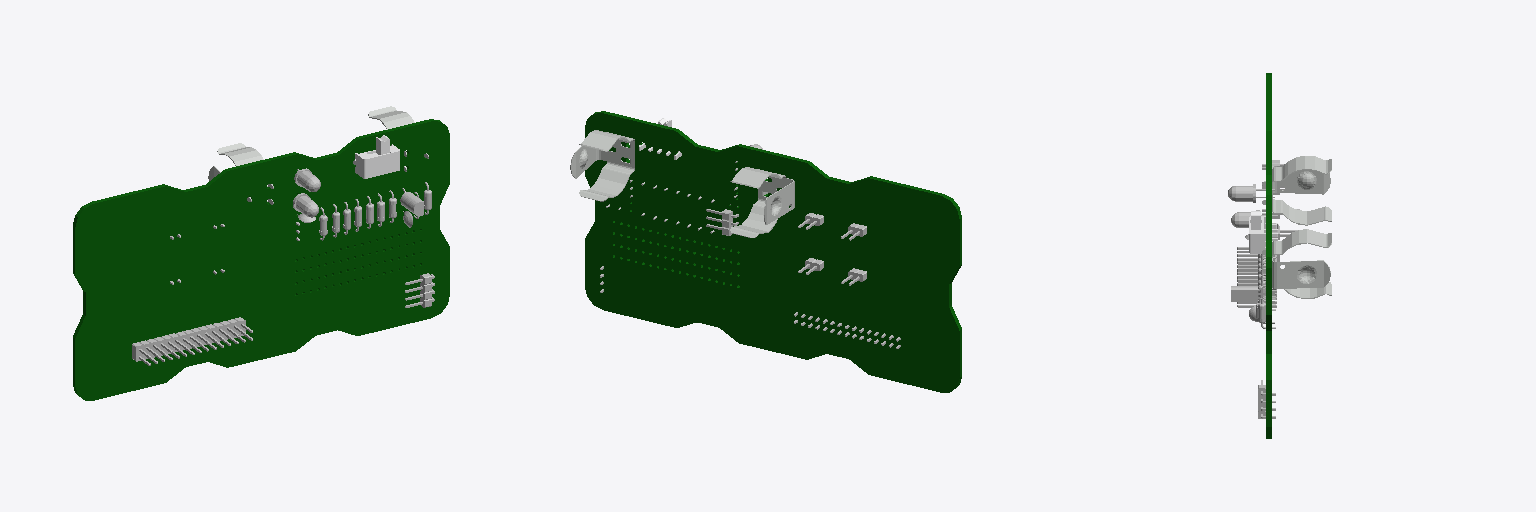
3 views of the same model, side by side, from view 1: azimuth 30°, elevation 25°; view 2: azimuth 150°, elevation 25°; view 3: azimuth 270°, elevation 25° (orthographic).
Parts seen in each view (by area): view 1: Part__Feature024, Part__Feature004, Part__Feature015, Part__Feature006, Part__Feature005, Part__Feature019; view 2: Part__Feature024, Part__Feature005, Part__Feature006; view 3: Part__Feature005, Part__Feature006, Part__Feature024, Part__Feature004, Part__Feature015.
Part boxes in pixels (x1,y1,x2,y2): Part__Feature024: (73, 119, 449, 400); Part__Feature004: (132, 317, 252, 365); Part__Feature015: (353, 135, 399, 178); Part__Feature006: (208, 143, 273, 204); Part__Feature005: (368, 106, 428, 171); Part__Feature019: (405, 273, 434, 307); Part__Feature024: (585, 111, 961, 392); Part__Feature005: (570, 130, 634, 201); Part__Feature006: (730, 167, 794, 237); Part__Feature005: (1262, 229, 1331, 298); Part__Feature006: (1262, 156, 1331, 225); Part__Feature024: (1266, 73, 1271, 438); Part__Feature004: (1237, 247, 1276, 307); Part__Feature015: (1249, 211, 1278, 253).
Bounding box in the file's own units: 130 × 65.35 × 31.46.